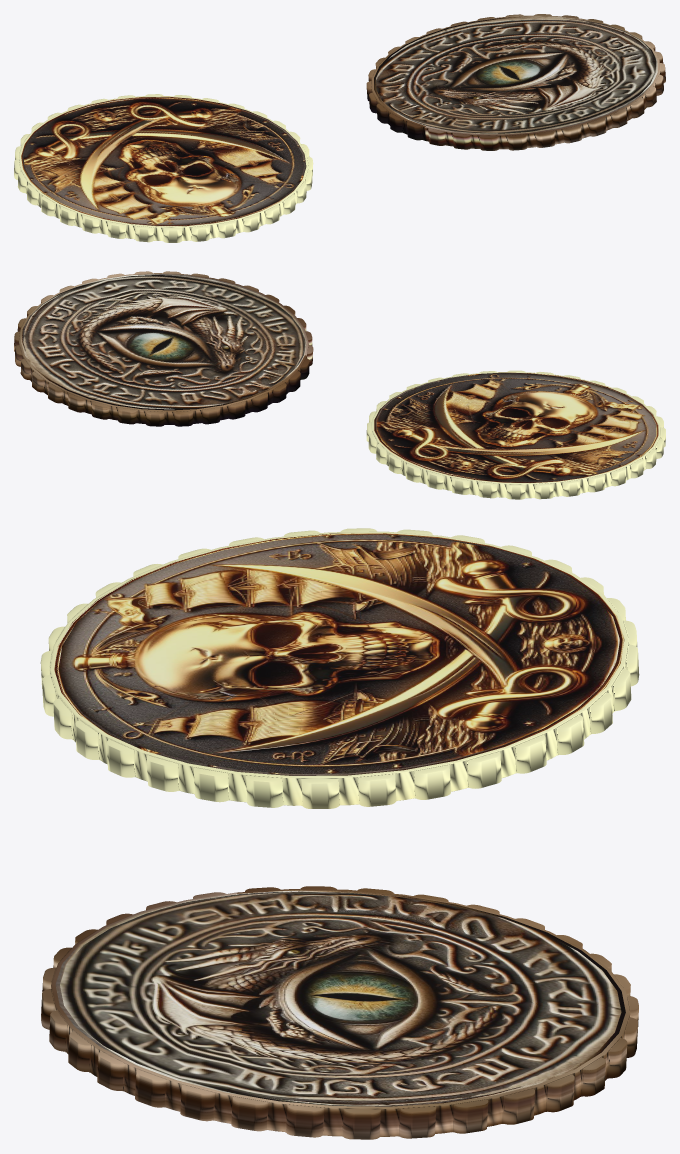
The model's file is goldcoins.fbx.
The picture shows the model from 3 angles, top to bottom: view 1: azimuth 30°, elevation 25°; view 2: azimuth 150°, elevation 25°; view 3: azimuth 270°, elevation 25°; orthographic projection. The views are drawn at different scales.
Visible parts, largest first — view 1: Cylinder, Cylinder.001; view 2: Cylinder.001, Cylinder; view 3: Cylinder, Cylinder.001.
Part boxes in pixels (<box>): Cylinder: <box>14,94,313,242</box>; Cylinder.001: <box>366,14,665,150</box>; Cylinder.001: <box>14,271,313,426</box>; Cylinder: <box>366,370,665,499</box>; Cylinder: <box>40,528,639,808</box>; Cylinder.001: <box>41,886,638,1139</box>.
Bounding box in the file's own units: 487 × 23.74 × 206.
